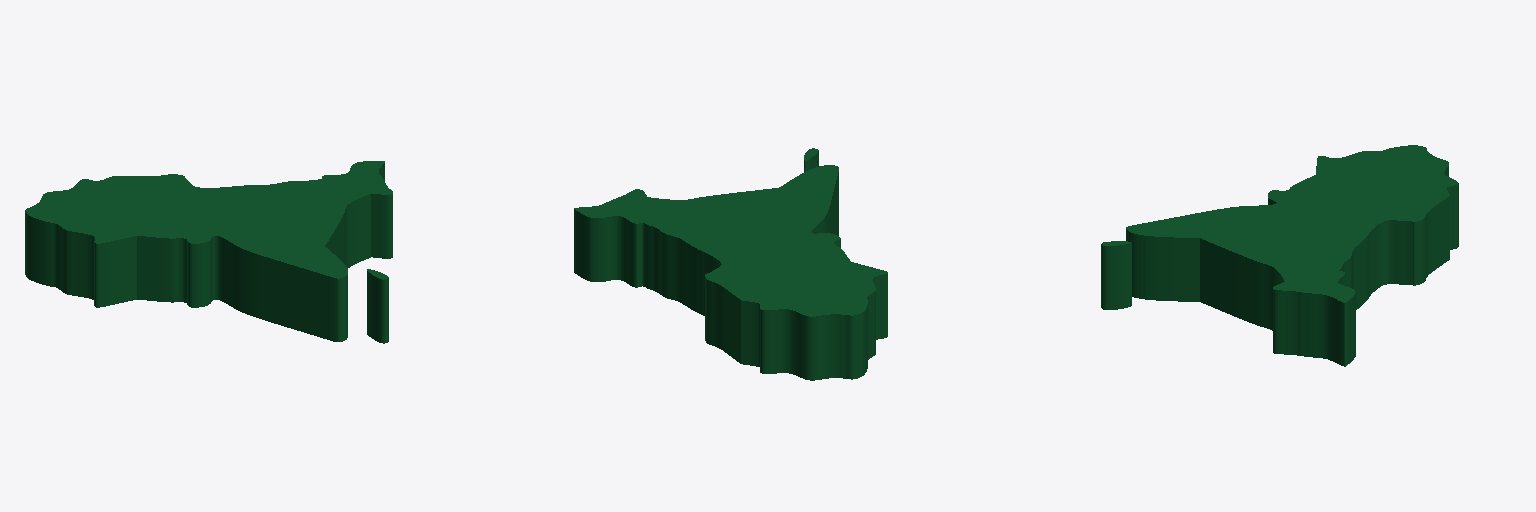
Rendered from Asia_03.obj.
The picture shows the model from 3 angles: view 1: azimuth 30°, elevation 25°; view 2: azimuth 150°, elevation 25°; view 3: azimuth 270°, elevation 25°; orthographic projection.
Visible parts, largest first — view 1: Asia_03_path4284; view 2: Asia_03_path4284; view 3: Asia_03_path4284.
Part boxes in pixels (x1,y1,x2,y2): Asia_03_path4284: (25,161,392,343); Asia_03_path4284: (574,148,887,380); Asia_03_path4284: (1101,145,1458,366).
Size of the model in its own units: 0.529 by 0.1 by 0.5065.